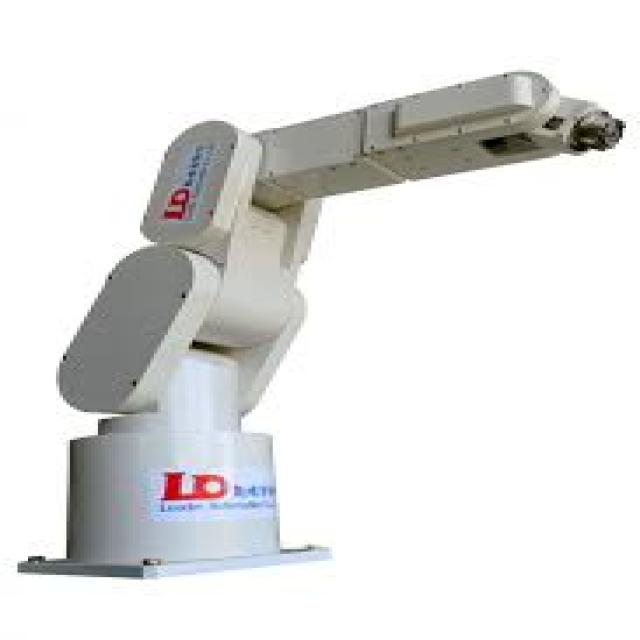Robotic-arm: (62, 68, 618, 586)
